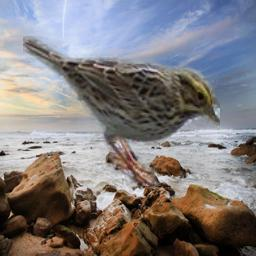Sparrow: (23, 36, 220, 186)
